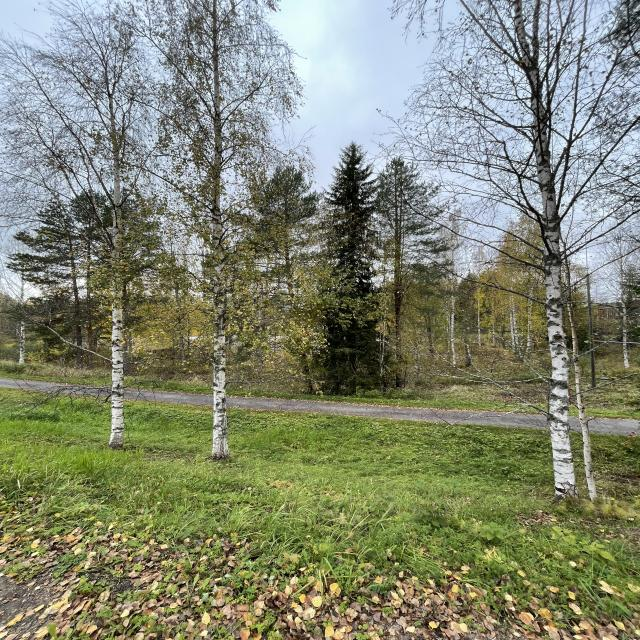spruce: (290, 133, 409, 403)
